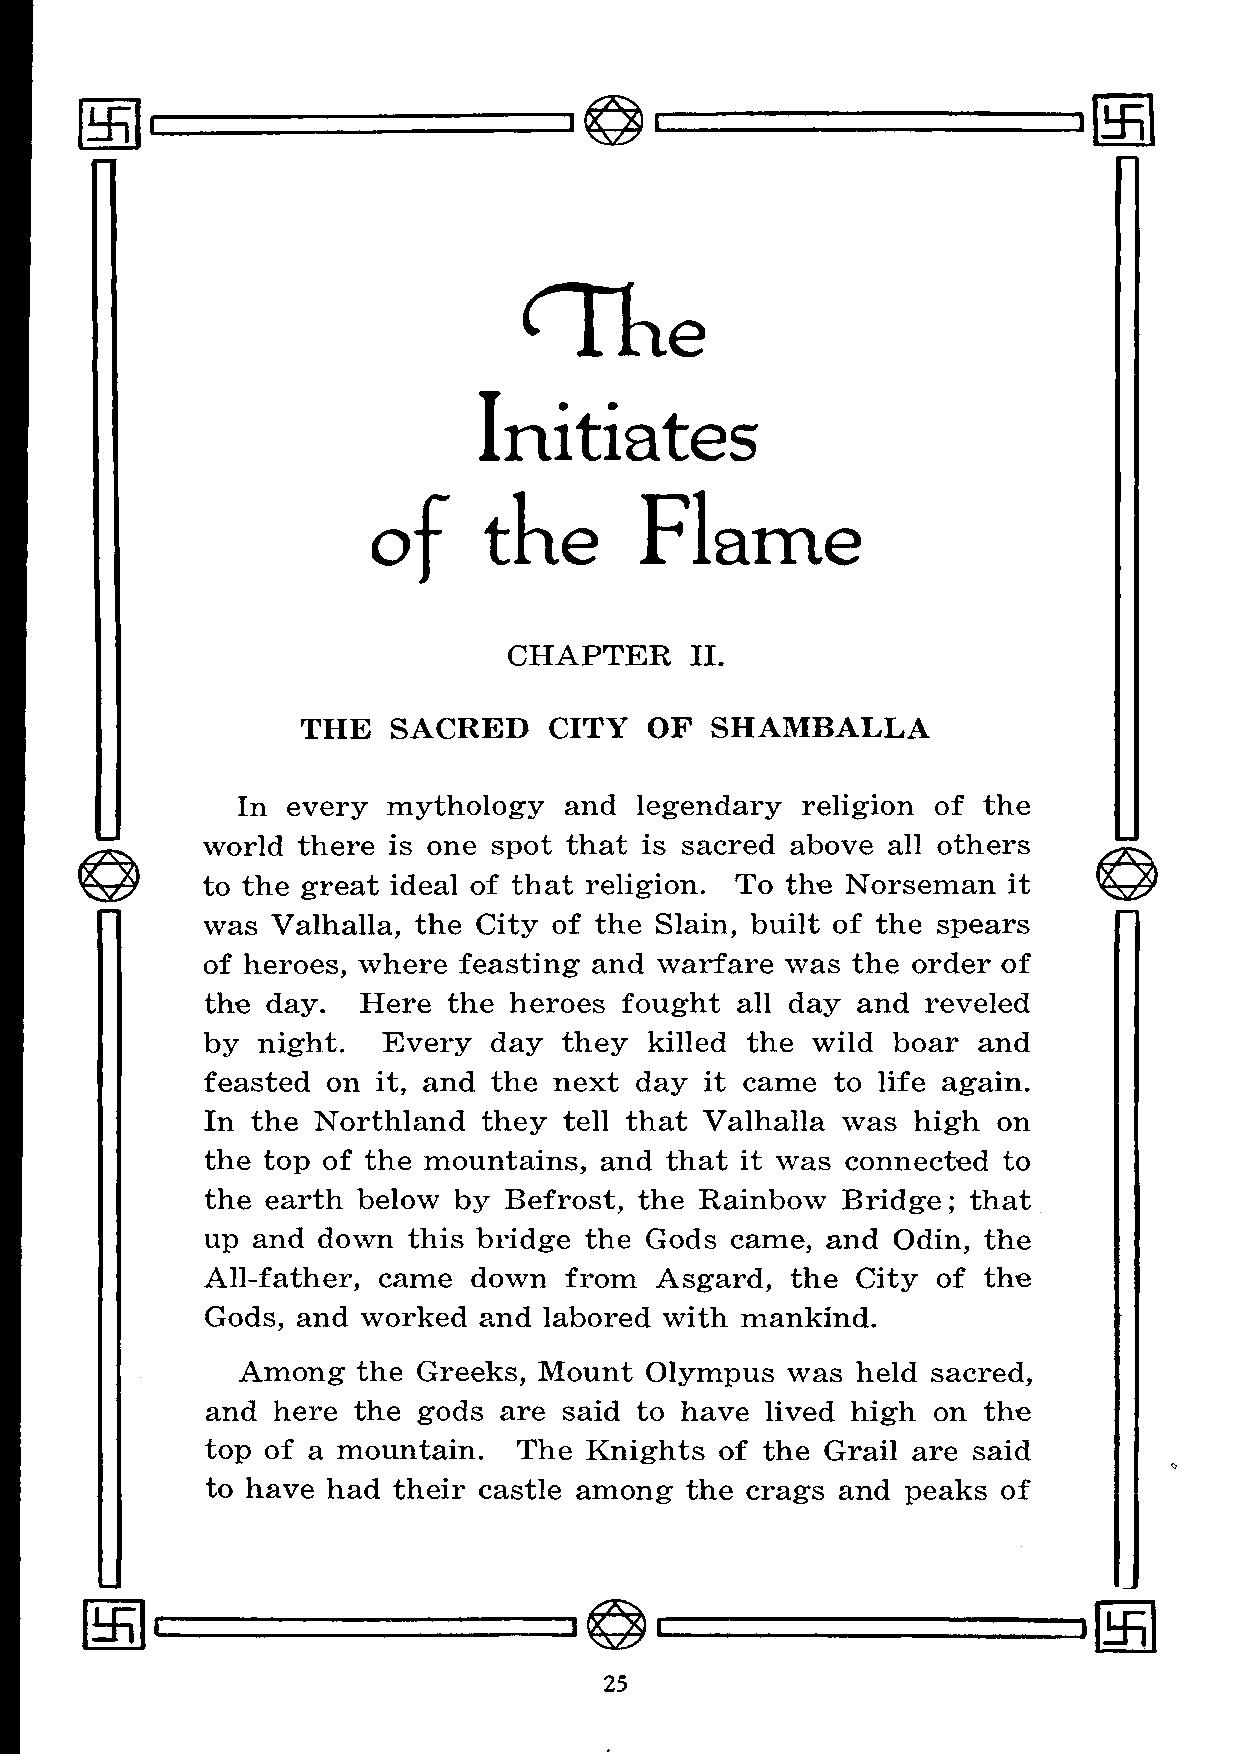chapter: (368, 278, 864, 590), (295, 637, 931, 741)
content: (199, 789, 1033, 1511)
